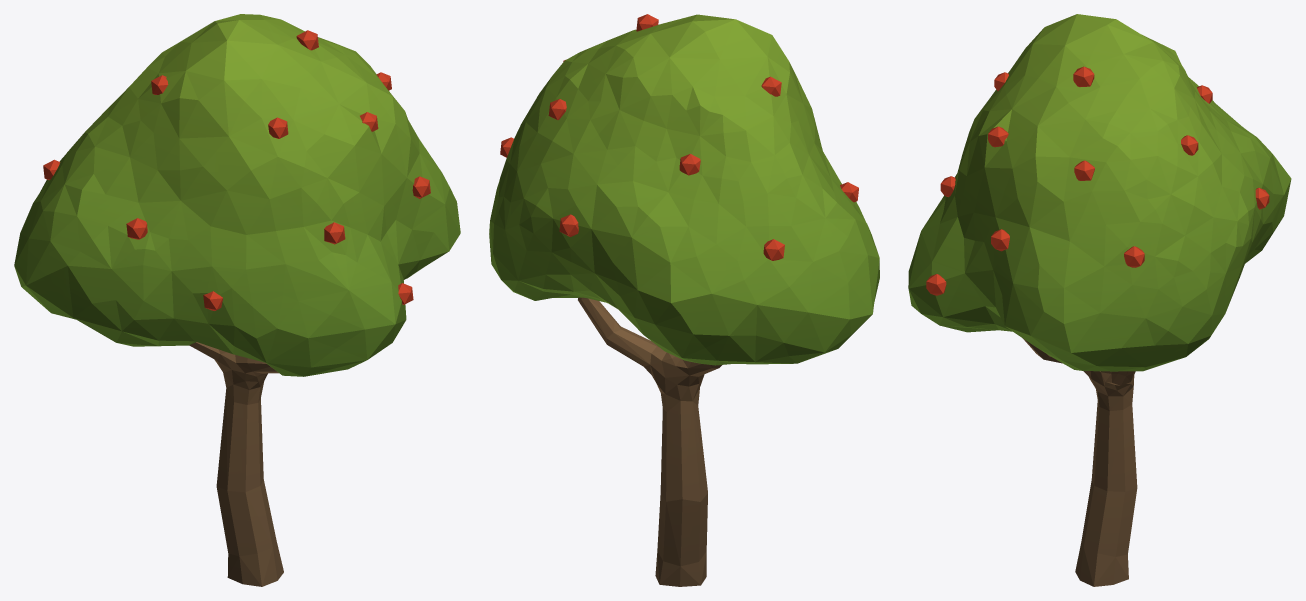
Rendered from Mesh_Plants_AppleTree_01.FBX.
The picture shows the model from 3 angles, left to right: view 1: azimuth 30°, elevation 25°; view 2: azimuth 150°, elevation 25°; view 3: azimuth 270°, elevation 25°; orthographic projection. The views are drawn at different scales.
Visible parts, largest first — view 1: Mesh_Plants_AppleTree_01; view 2: Mesh_Plants_AppleTree_01; view 3: Mesh_Plants_AppleTree_01.
Part boxes in pixels (x1,y1,x2,y2): Mesh_Plants_AppleTree_01: (14,14,460,586); Mesh_Plants_AppleTree_01: (489,14,879,586); Mesh_Plants_AppleTree_01: (908,14,1291,586).
Size of what is drawn, in the model's own units: 371 by 320 by 502.
